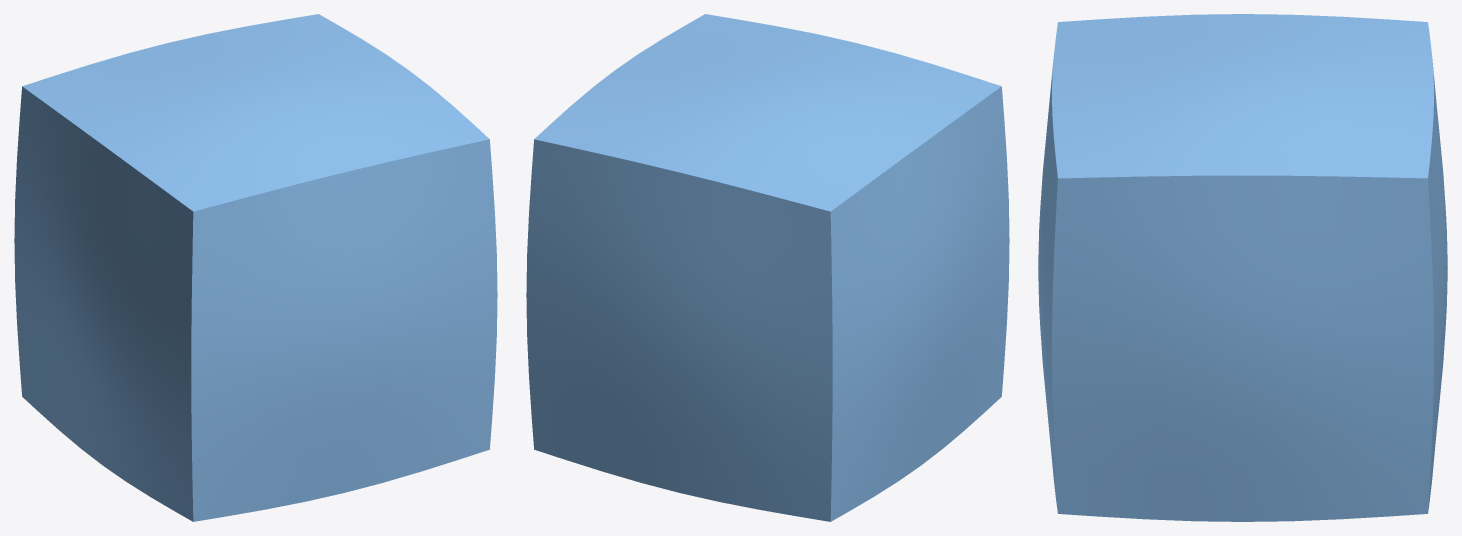
Rendered from pillow.glb.
The picture shows the model from 3 angles, left to right: view 1: azimuth 30°, elevation 25°; view 2: azimuth 150°, elevation 25°; view 3: azimuth 270°, elevation 25°; orthographic projection. The views are drawn at different scales.
Visible parts, largest first — view 1: block_pillow; view 2: block_pillow; view 3: block_pillow.
Boxes of the visible parts, x1,y1,x2,y2 form: block_pillow: (14, 14, 497, 521); block_pillow: (526, 14, 1009, 521); block_pillow: (1038, 14, 1447, 521).
Bounding box in the file's own units: 1.01 × 1.01 × 1.01.
